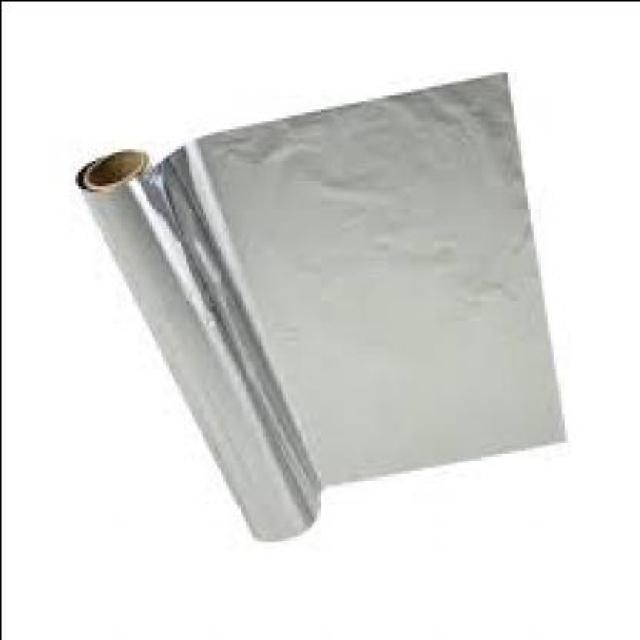METAL: (74, 77, 563, 543)
